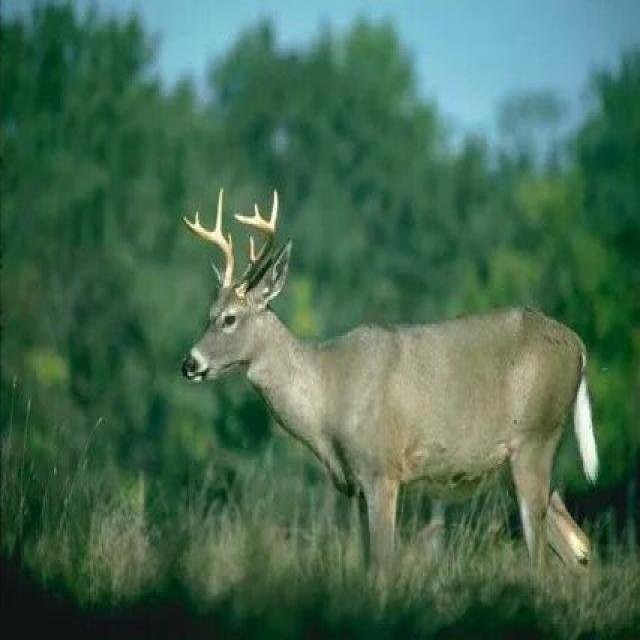deer: (154, 156, 620, 559)
